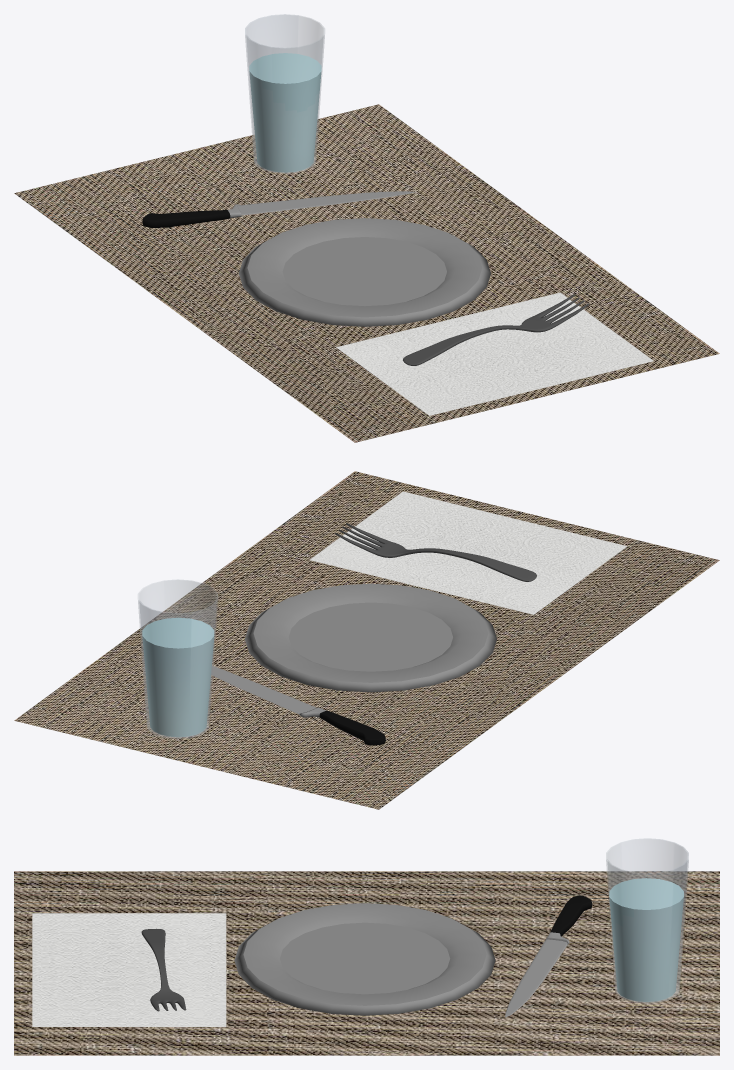
The model's file is Dinnerware.FBX.
3 views of the same model, one above another, from view 1: azimuth 30°, elevation 25°; view 2: azimuth 150°, elevation 25°; view 3: azimuth 270°, elevation 25° (orthographic). The views are drawn at different scales.
Visible parts, largest first — view 1: Mat, Dish, Towel, Glass, Knife, Fork; view 2: Mat, Dish, Towel, Glass, Knife, Fork; view 3: Mat, Dish, Towel, Glass, Knife, Fork.
Boxes of the visible parts, x1,y1,x2,y2 form: Mat: (14,104,719,442); Dish: (239,218,490,326); Towel: (336,292,653,415); Glass: (245,14,324,173); Knife: (142,191,415,227); Fork: (403,294,589,365); Mat: (14,471,719,809); Dish: (245,583,496,692); Towel: (310,491,627,614); Glass: (138,579,217,738); Knife: (211,666,385,745); Fork: (335,523,536,581); Mat: (14,871,719,1055); Dish: (234,903,495,1015); Towel: (32,913,226,1026); Glass: (606,838,688,1003); Knife: (505,895,592,1017); Fork: (141,928,186,1011).
Size of the model in its own units: 297 by 101 by 481.
